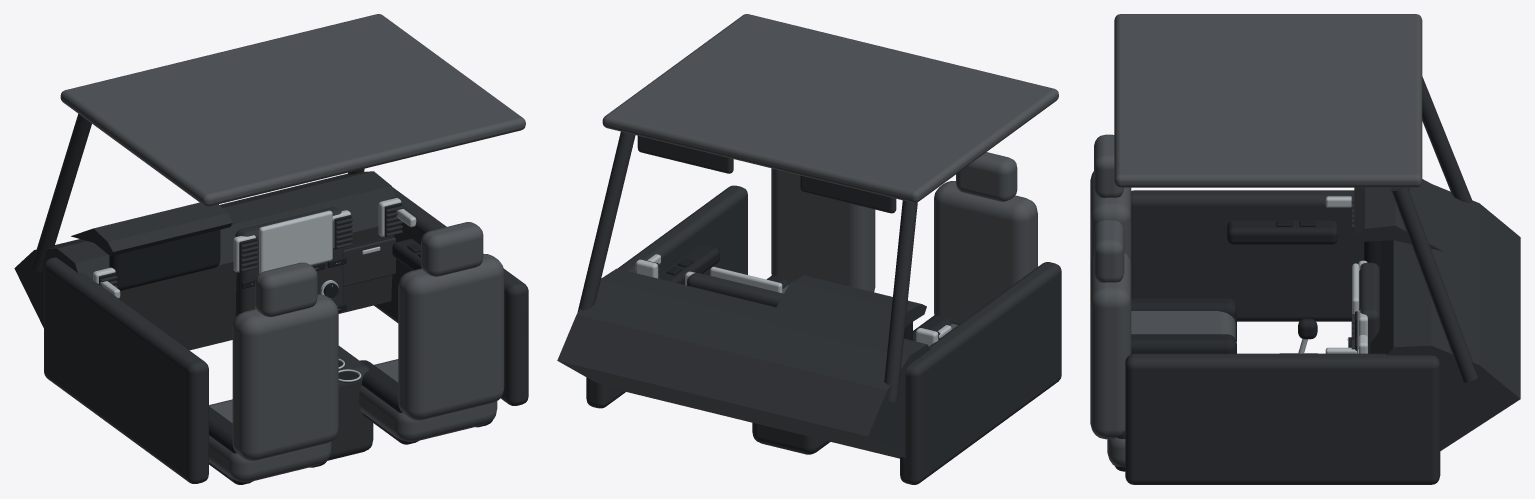
File: cabin.glb
The picture shows the model from 3 angles, left to right: view 1: azimuth 30°, elevation 25°; view 2: azimuth 150°, elevation 25°; view 3: azimuth 270°, elevation 25°; orthographic projection. The views are drawn at different scales.
Parts seen in each view (by area): view 1: cabin; view 2: cabin; view 3: cabin.
Boxes of the visible parts, x1,y1,x2,y2 form: cabin: (14, 14, 528, 484); cabin: (557, 14, 1061, 484); cabin: (1090, 14, 1520, 484).
Size of the model in its own units: 2.3 by 2.17 by 2.41.
Materials: 7 (1 with a texture image).
